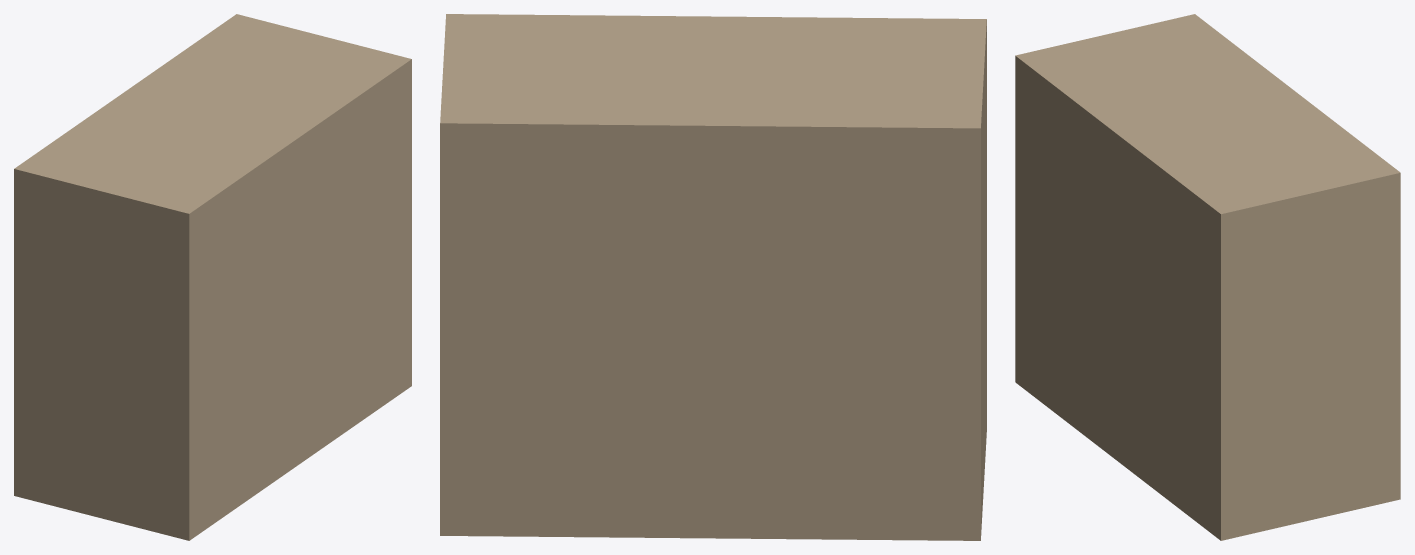
The model's file is bld_164496083.dae.
3 renders of one model, left to right at view 1: azimuth 30°, elevation 25°; view 2: azimuth 150°, elevation 25°; view 3: azimuth 270°, elevation 25°, orthographic. The views are drawn at different scales.
Parts seen in each view (by area): view 1: bld_164496083; view 2: bld_164496083; view 3: bld_164496083.
Part boxes in pixels (box(x1,y1,x2,y2)): bld_164496083: box(14, 14, 411, 540); bld_164496083: box(440, 14, 986, 540); bld_164496083: box(1015, 14, 1400, 540).
Bounding box in the file's own units: 10.52 × 8.56 × 8.
